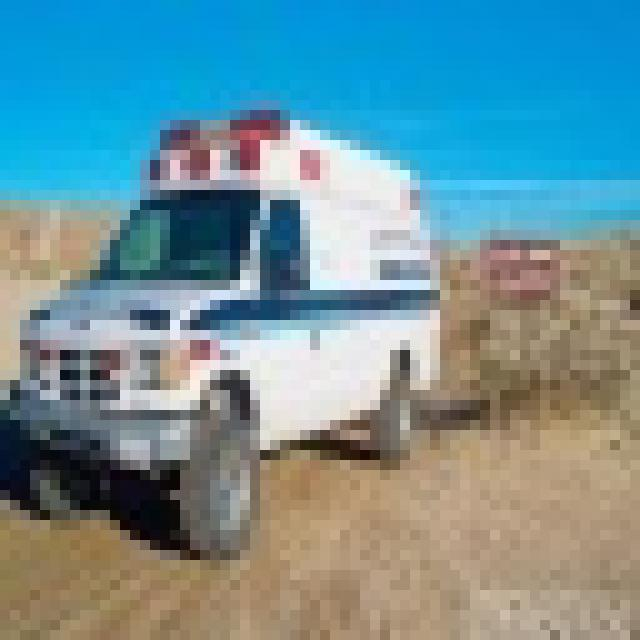Ambulance: (0, 100, 440, 550)
